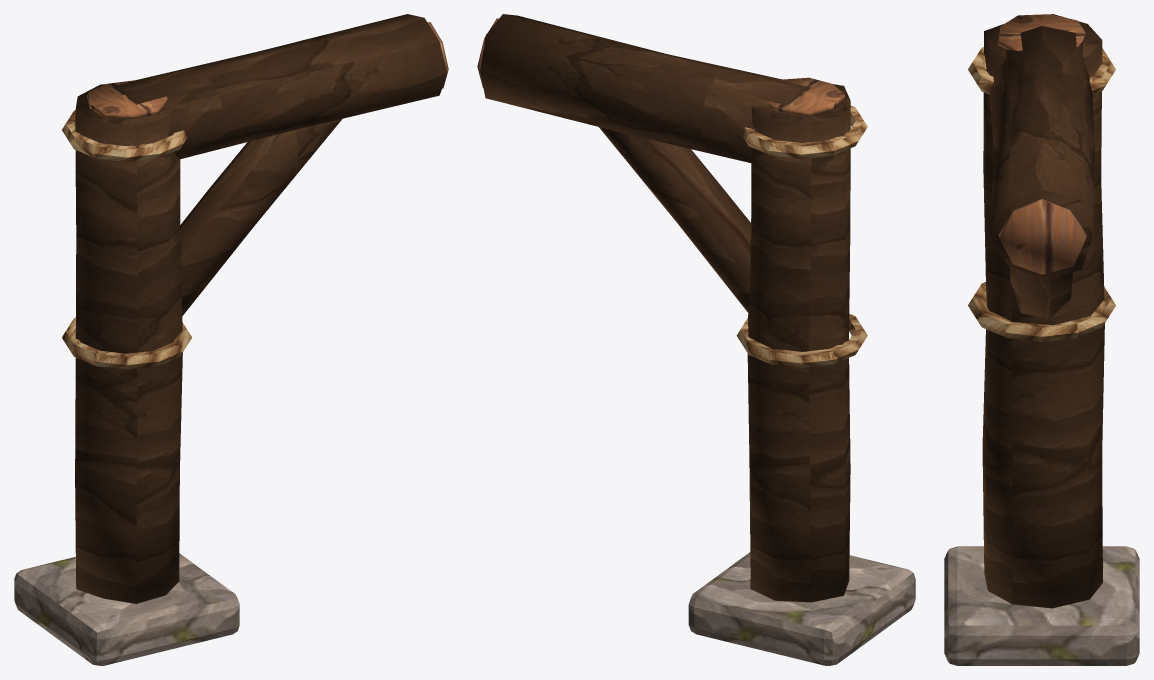
File: brace_corner.glb
3 renders of one model, left to right at view 1: azimuth 30°, elevation 25°; view 2: azimuth 150°, elevation 25°; view 3: azimuth 270°, elevation 25°, orthographic. The views are drawn at different scales.
Parts seen in each view (by area): view 1: model; view 2: model; view 3: model.
Part boxes in pixels (x1,y1,x2,y2): model: (14,14,448,665); model: (477,14,915,665); model: (944,14,1139,665).
Bounding box in the file's own units: 0.762 × 1.03 × 0.3.
Materials: 5 (5 with a texture image).
